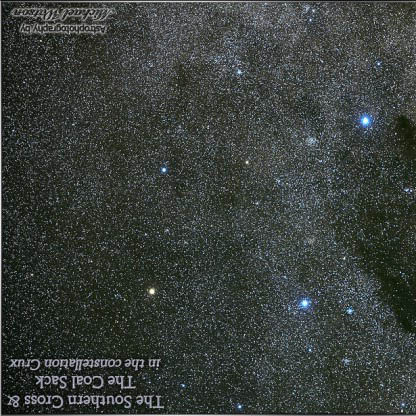Southern Cross: (288, 289, 321, 314), (350, 109, 376, 138), (152, 157, 178, 183), (139, 279, 163, 301)
